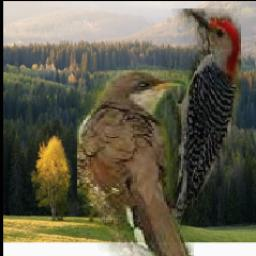Cuckoo: (76, 70, 193, 256)
Woodpecker: (157, 10, 241, 234)
